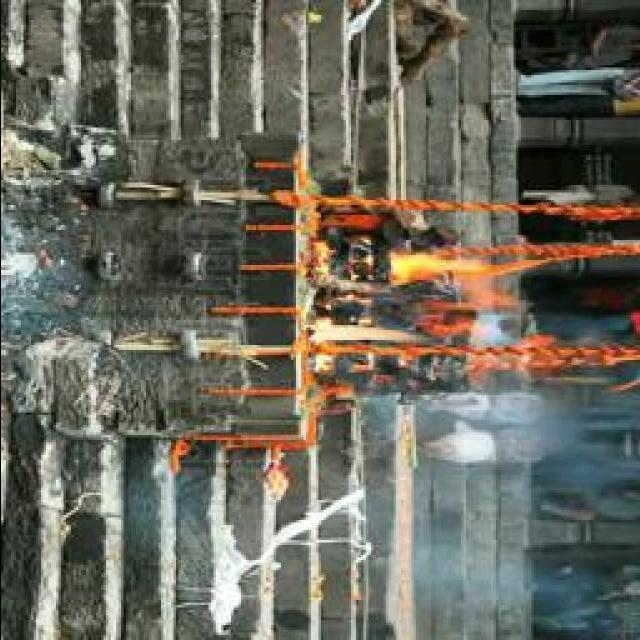Fire: (301, 248, 528, 360)
